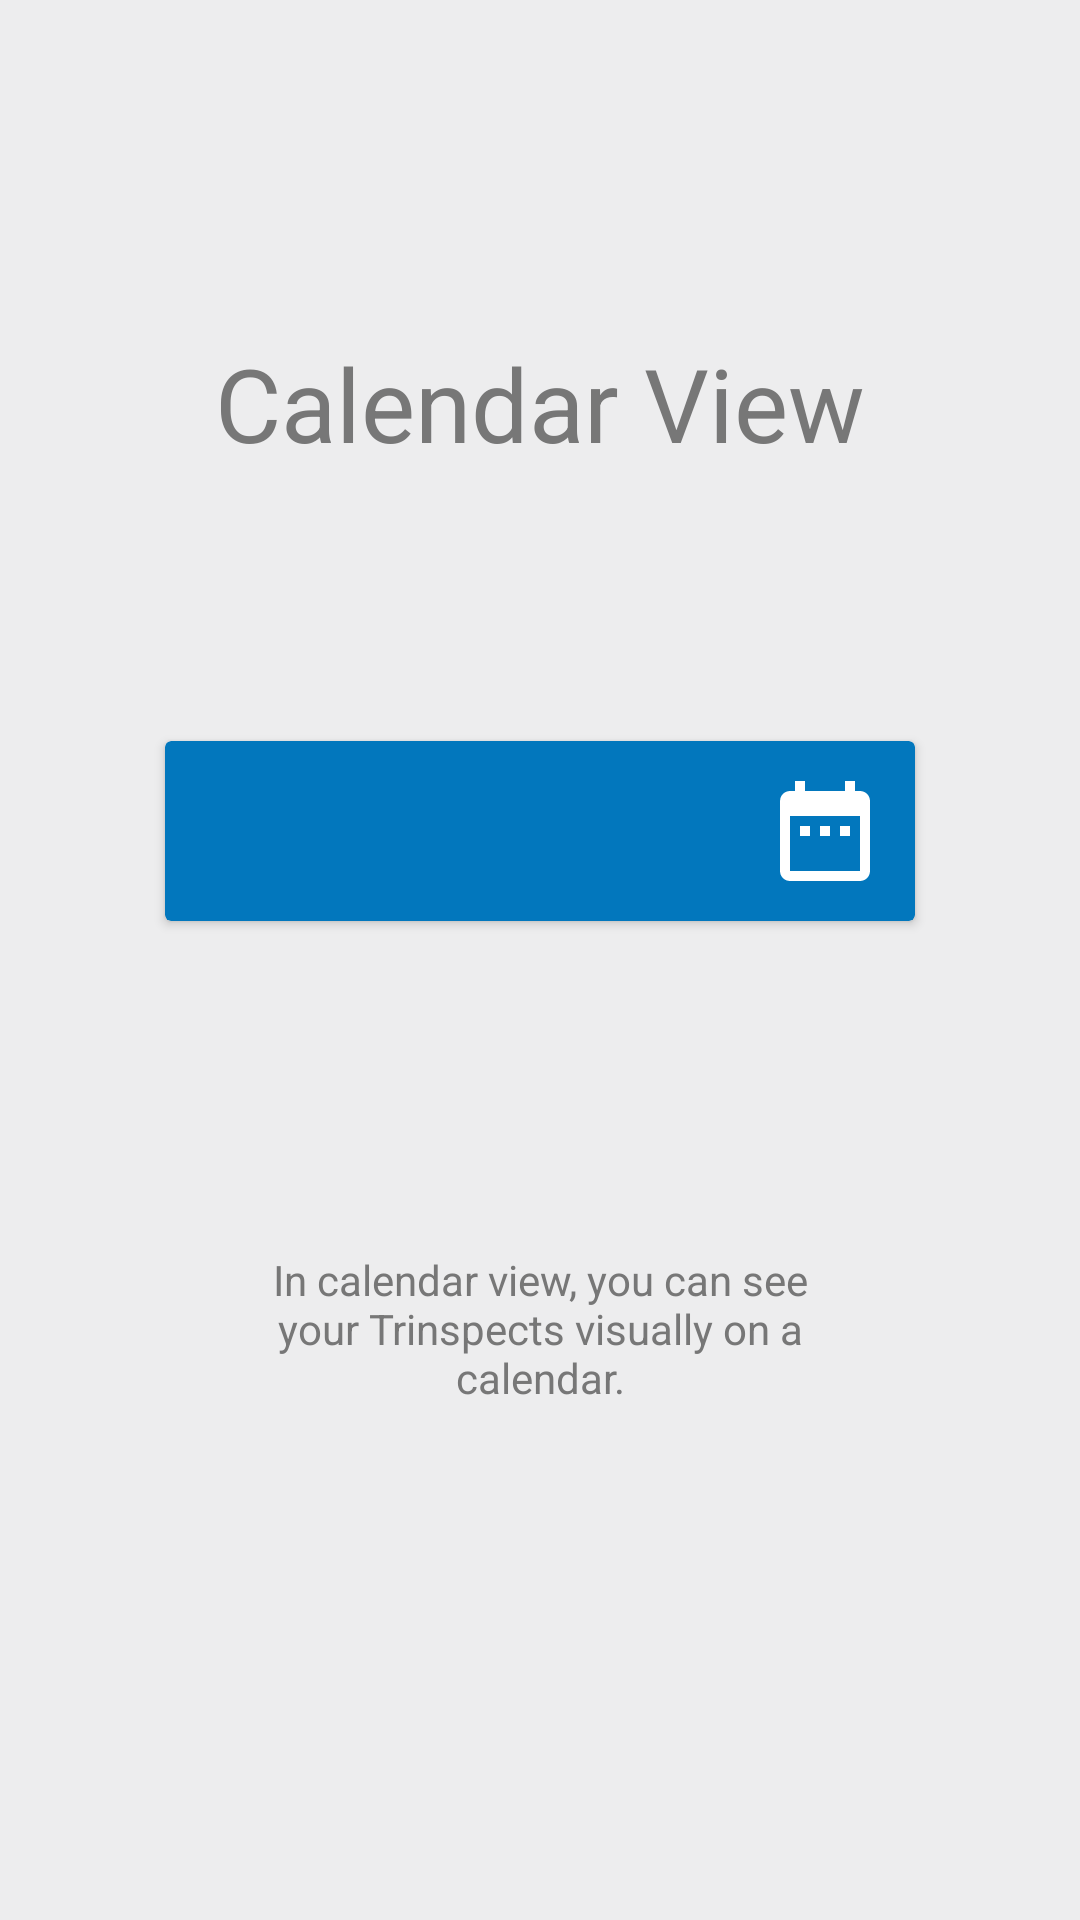

Icon click points for this 1080 x 1920 phone screenshot, format (x,y):
calendar: (825,831)
